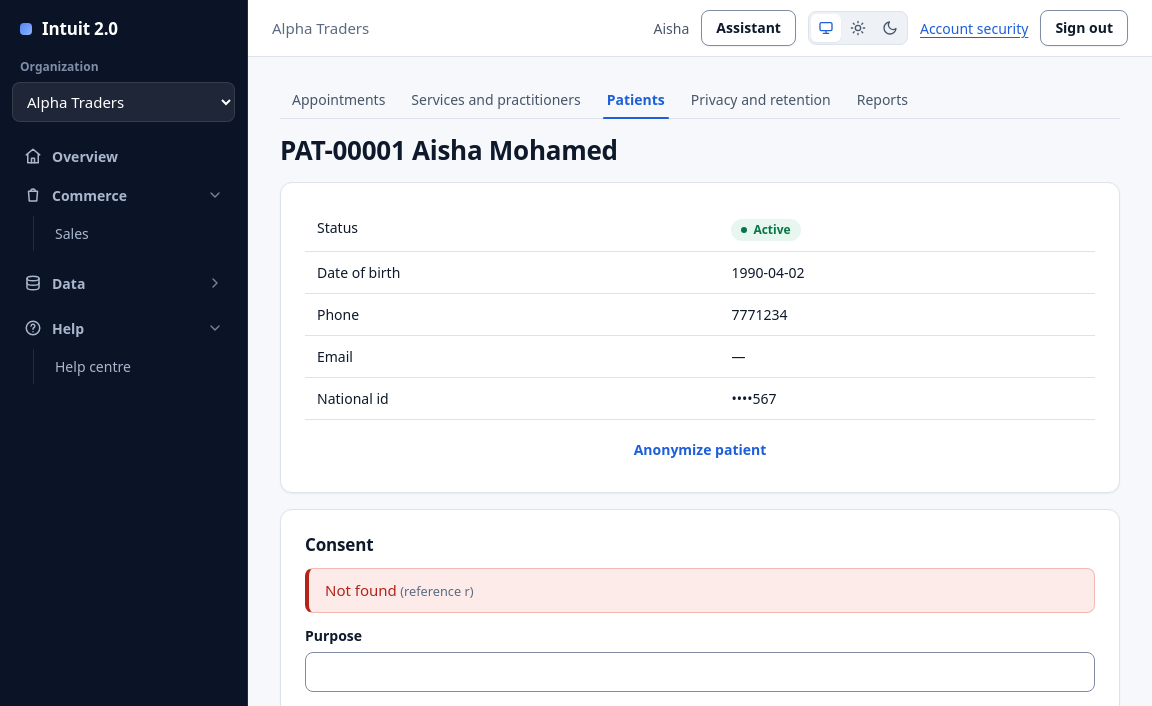
it: patients › confirming sends exactly one request, and a server error is shown with the dialog closed
Click the button "Anonymize patient" at (700, 450), box [305,432,1095,468]
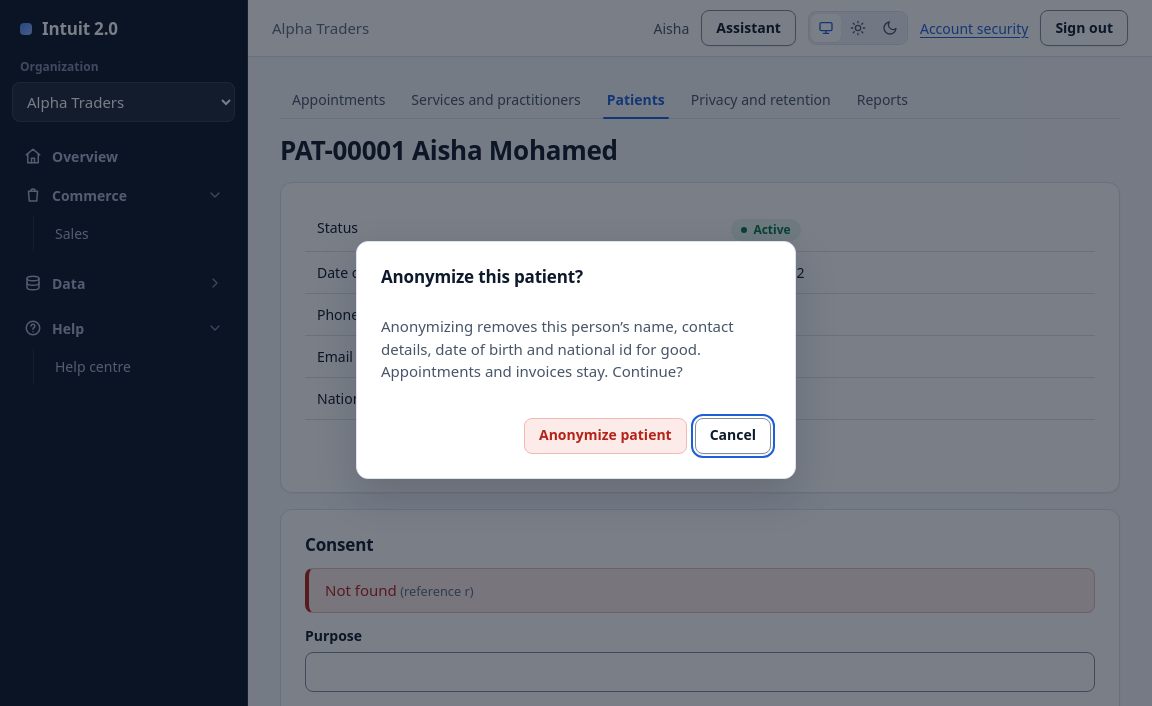
Click the button "Anonymize patient" at (605, 436), box [524,418,687,454]
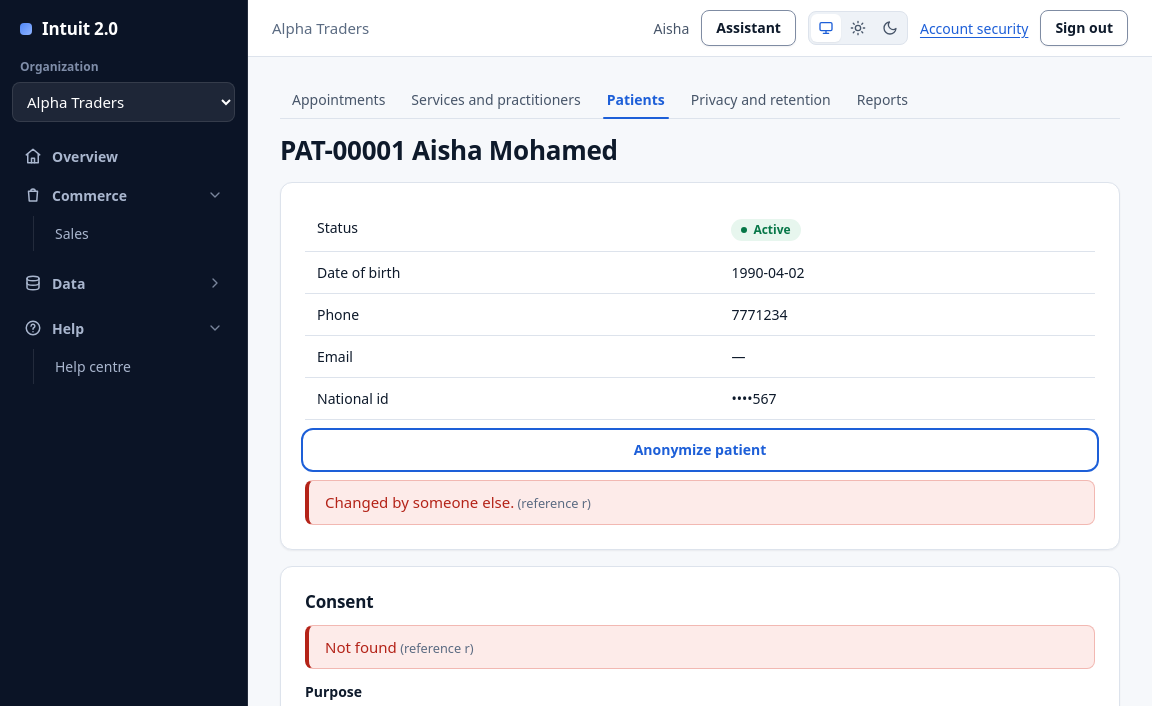
Check: the button "Anonymize patient" is shown, box [305,432,1095,468]
Check: the text "Changed by someone else. (reference r)" is shown, box [305,480,1095,525]
Check: the dialog is gone
